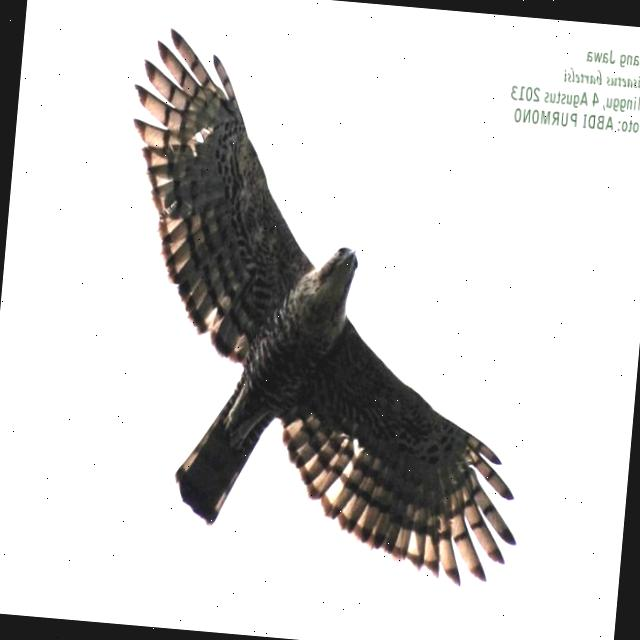Elang Jawa: (60, 21, 586, 606)
